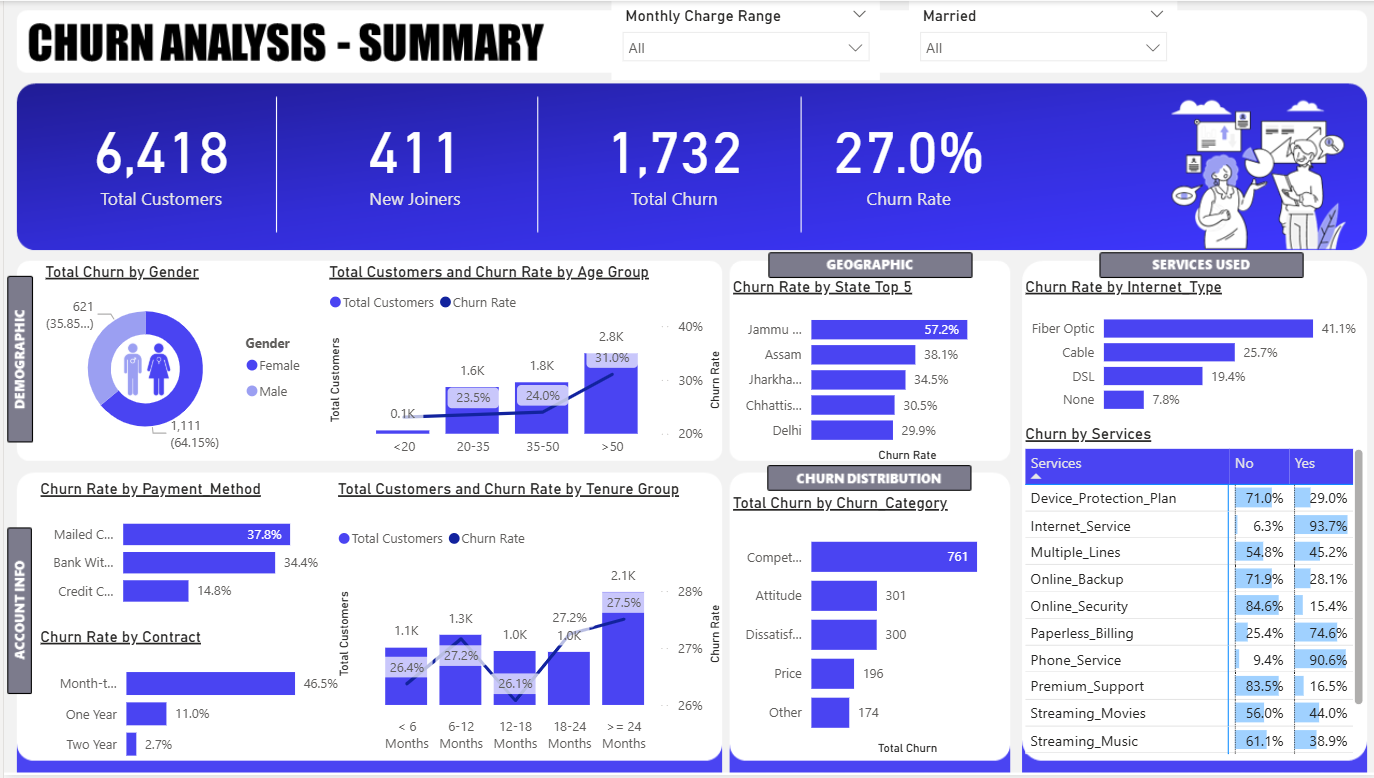

The page's visual inventory and layout, read from the dashboard file:
{"tool":"powerbi","page":{"name":"Summary","canvas":[1280,720],"ordinal":0},"visuals":[{"type":"image","box":[83.2,306,99.1,72.2],"z":0},{"type":"card","fields":{"Values":["tbl.Measures.Total Customers"]},"box":[42.8,79.6,206.8,132.2],"z":1000},{"type":"card","fields":{"Values":["tbl.Measures.New Joiners"]},"box":[279.1,79.6,206.8,132.2],"z":2000},{"type":"card","fields":{"Values":["tbl.Measures.Total Churn"]},"box":[509.2,79.6,228.9,132.2],"z":3000},{"type":"card","fields":{"Values":["tbl.Measures.Churn Rate"]},"box":[738,79.6,206.8,132.2],"z":4000},{"type":"donutChart","fields":{"Category":["prod_Churn.Gender"],"Y":["tbl.Measures.Total Churn"]},"box":[34.3,243.6,257,181.1],"z":5000},{"type":"lineStackedColumnComboChart","fields":{"Category":["mapping_AgeGrp.Age Group "],"Y":["tbl.Measures.Total Customers"],"Y2":["tbl.Measures.Churn Rate"]},"box":[297.4,243.6,375.8,189.7],"z":6000},{"type":"clusteredBarChart","fields":{"Category":["prod_Churn.Payment_Method"],"Y":["tbl.Measures.Churn Rate"]},"box":[29.1,445.4,276.7,130.2],"z":7000},{"type":"clusteredBarChart","fields":{"Category":["prod_Churn.Contract"],"Y":["tbl.Measures.Churn Rate"]},"box":[29.4,582.6,287.6,137.1],"z":8000},{"type":"lineStackedColumnComboChart","fields":{"Category":["mapping_TenureGrp.Tenure Group "],"Y":["tbl.Measures.Total Customers"],"Y2":["tbl.Measures.Churn Rate"]},"box":[306,445.5,367.2,260.7],"z":9000},{"type":"clusteredBarChart","title":"Churn Rate by State Top 5","fields":{"Category":["prod_Churn.State"],"Y":["tbl.Measures.Churn Rate"]},"box":[673.2,257,261.9,176.2],"z":10000},{"type":"clusteredBarChart","fields":{"Category":["prod_Churn.Churn_Category"],"Y":["tbl.Measures.Total Churn"]},"box":[673.2,457.8,261.9,248.5],"z":11000},{"type":"clusteredBarChart","fields":{"Category":["prod_Churn.Internet_Type"],"Y":["tbl.Measures.Churn Rate"]},"box":[945.4,257,324.4,137.2],"z":12000},{"type":"pivotTable","title":"Churn by Services","fields":{"Rows":["prod_Services.Services"],"Columns":["prod_Services.Status"],"Values":["Sum(prod_Services.Churn Status)"]},"box":[945.4,394.2,324.4,311.6],"z":13000},{"type":"slicer","fields":{"Values":["prod_Churn.Monthly Charge Status"]},"box":[565.5,0,249.7,73.4],"z":14000},{"type":"slicer","fields":{"Values":["prod_Churn.Married"]},"box":[842.1,0,249.7,63.6],"z":15000}]}

Visuals, with their boxes in screenshot pixels (x1, y1, x2, y2), scaled from the page's 1280x720 canvas onto the 1374x778 screenshot:
image: locate(89, 331, 196, 409)
card - tbl.Measures.Total Customers: locate(46, 86, 268, 229)
card - tbl.Measures.New Joiners: locate(300, 86, 522, 229)
card - tbl.Measures.Total Churn: locate(547, 86, 792, 229)
card - tbl.Measures.Churn Rate: locate(792, 86, 1014, 229)
donutChart - prod_Churn.Gender x tbl.Measures.Total Churn: locate(37, 263, 313, 459)
lineStackedColumnComboChart - mapping_AgeGrp.Age Group  x tbl.Measures.Total Customers: locate(319, 263, 723, 468)
clusteredBarChart - prod_Churn.Payment_Method x tbl.Measures.Churn Rate: locate(31, 481, 328, 622)
clusteredBarChart - prod_Churn.Contract x tbl.Measures.Churn Rate: locate(32, 630, 340, 777)
lineStackedColumnComboChart - mapping_TenureGrp.Tenure Group  x tbl.Measures.Total Customers: locate(328, 481, 723, 763)
"Churn Rate by State Top 5" clusteredBarChart: locate(723, 278, 1004, 468)
clusteredBarChart - prod_Churn.Churn_Category x tbl.Measures.Total Churn: locate(723, 495, 1004, 763)
clusteredBarChart - prod_Churn.Internet_Type x tbl.Measures.Churn Rate: locate(1015, 278, 1363, 426)
"Churn by Services" pivotTable: locate(1015, 426, 1363, 763)
slicer - prod_Churn.Monthly Charge Status: locate(607, 0, 875, 79)
slicer - prod_Churn.Married: locate(904, 0, 1172, 69)
